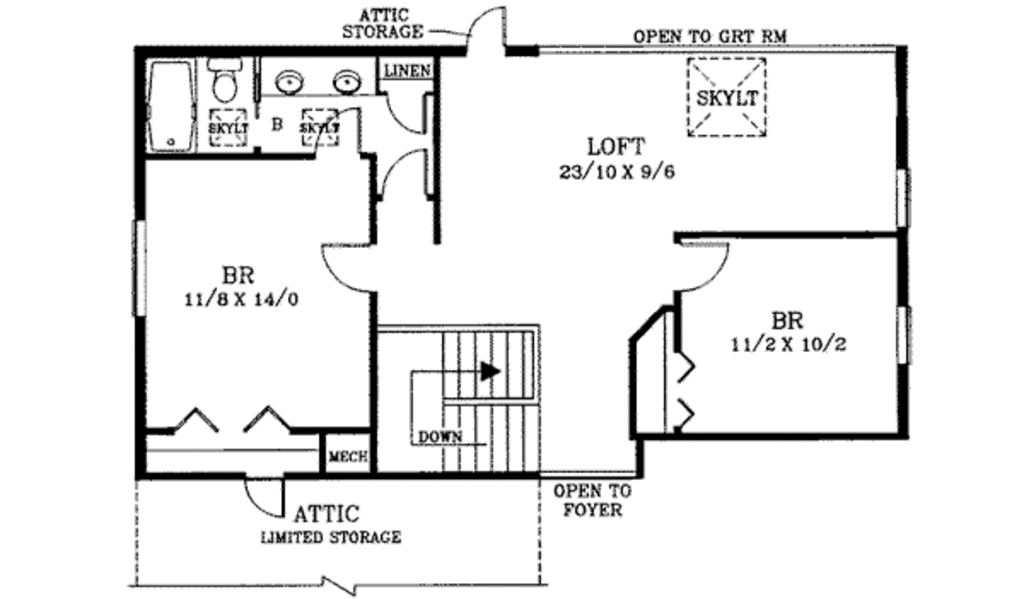door: (313, 239, 377, 296), (379, 146, 436, 210), (674, 235, 739, 290), (457, 5, 514, 59), (380, 90, 435, 137), (243, 470, 292, 521)
large_sink: (201, 55, 249, 106)
small_sink: (258, 51, 379, 98)
stairs: (379, 321, 550, 466)
tub: (149, 59, 201, 155)
window: (126, 221, 151, 316), (898, 305, 910, 363), (899, 166, 910, 228)
